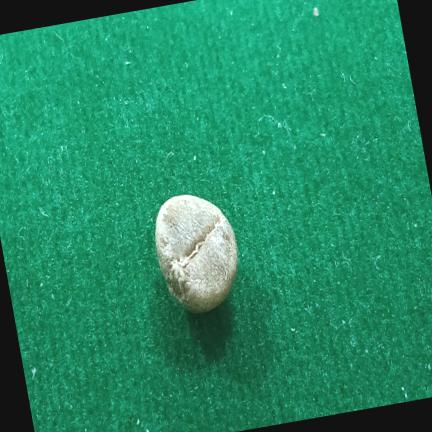good: (155, 195, 238, 313)
